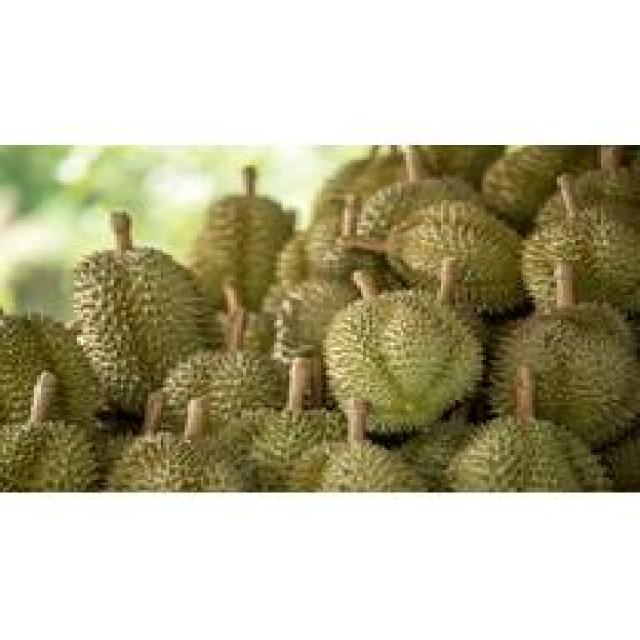fruit: (55, 235, 222, 443), (311, 268, 495, 452)
